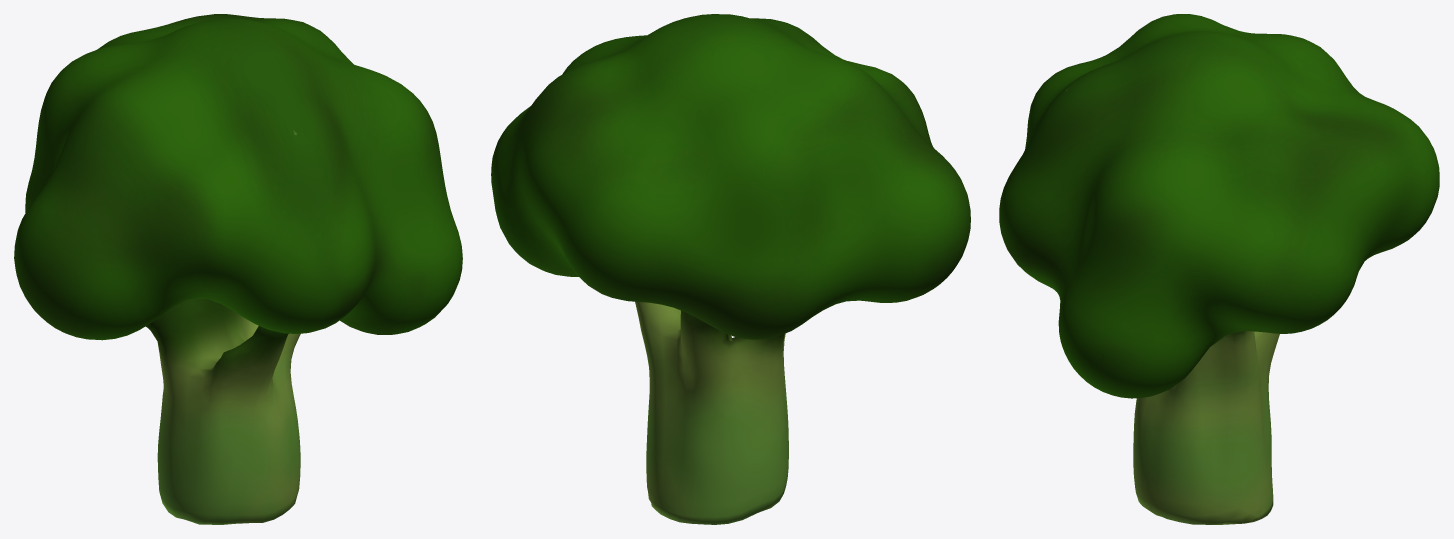
File: food_broccoli.glb
3 renders of one model, left to right at view 1: azimuth 30°, elevation 25°; view 2: azimuth 150°, elevation 25°; view 3: azimuth 270°, elevation 25°, orthographic. The views are drawn at different scales.
Visible parts, largest first — view 1: food_broccoli; view 2: food_broccoli; view 3: food_broccoli.
Boxes of the visible parts, box(x1,y1,x2,y2) form: food_broccoli: box(14, 14, 462, 524); food_broccoli: box(491, 14, 970, 524); food_broccoli: box(999, 14, 1439, 524).
Bounding box in the file's own units: 66.13 × 72 × 62.24.
Materials: 1 (1 with a texture image).
